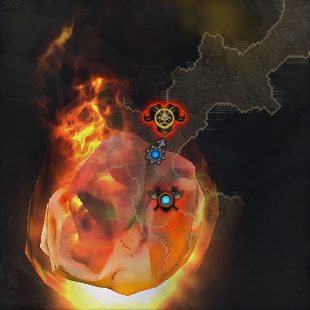Guardian: (143, 102, 187, 137)
